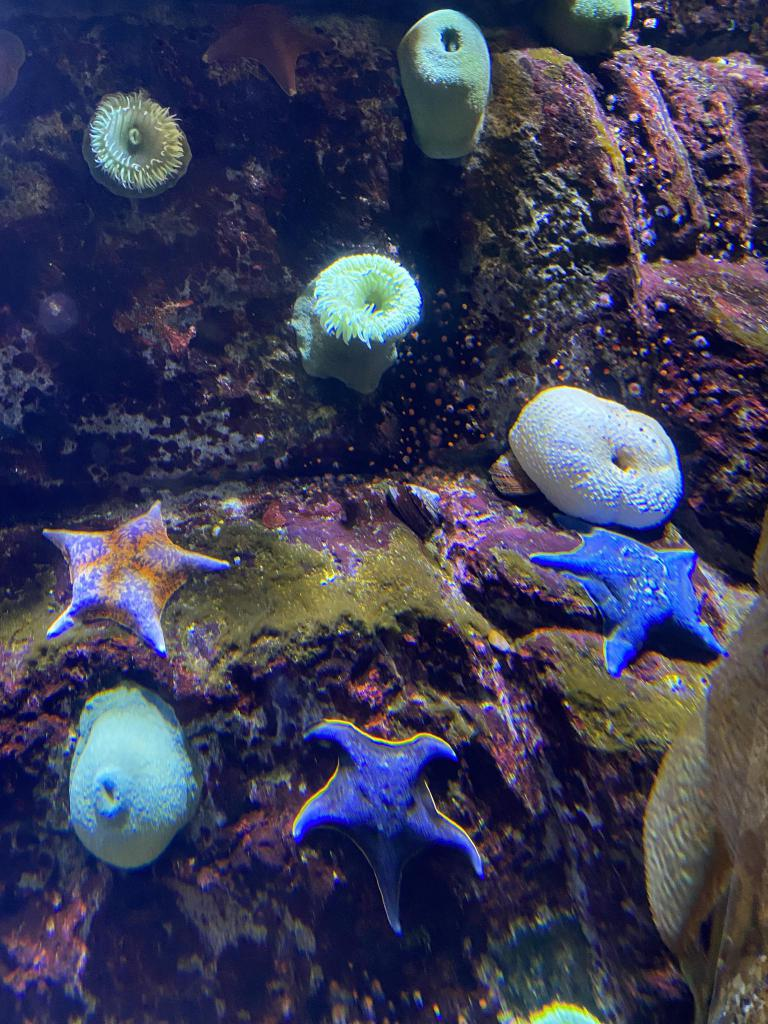starfish: (304, 725, 490, 907), (530, 525, 722, 663), (48, 515, 222, 649)
